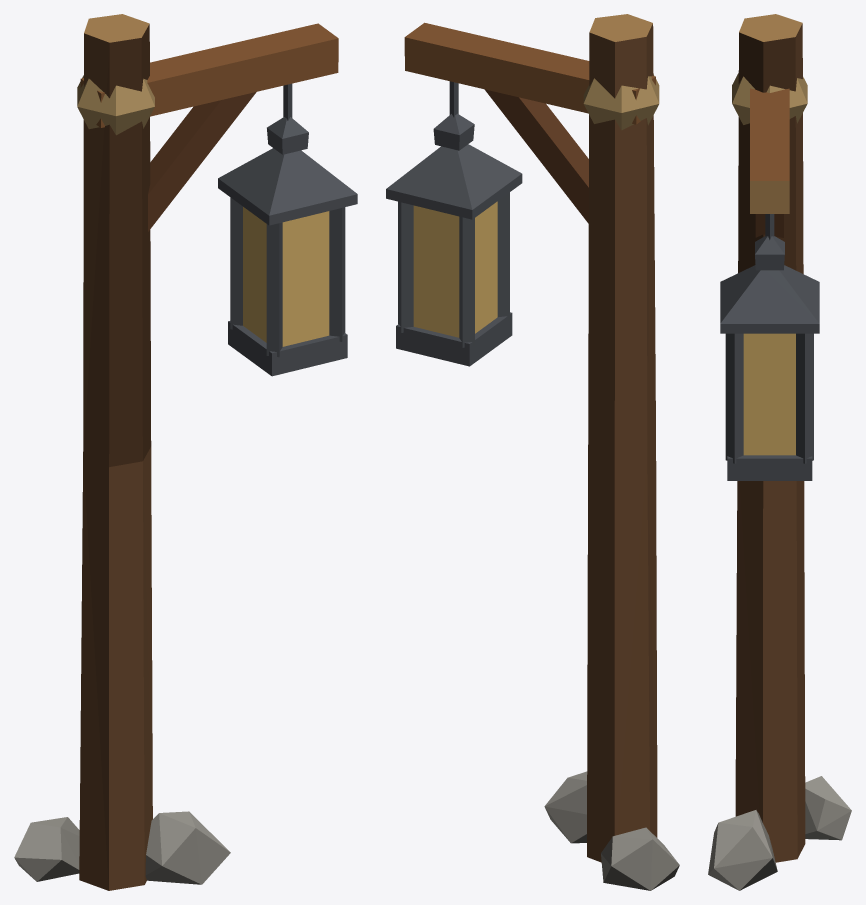
The model's file is lantern_post.glb.
The picture shows the model from 3 angles, left to right: view 1: azimuth 30°, elevation 25°; view 2: azimuth 150°, elevation 25°; view 3: azimuth 270°, elevation 25°; orthographic projection. The views are drawn at different scales.
Visible parts, largest first — view 1: lantern_post; view 2: lantern_post; view 3: lantern_post.
Boxes of the visible parts, <box> form: lantern_post: <box>14,14,357,890</box>; lantern_post: <box>386,14,679,890</box>; lantern_post: <box>708,14,851,890</box>.
Size of the model in its own units: 0.5879 by 1.6 by 0.2542.
